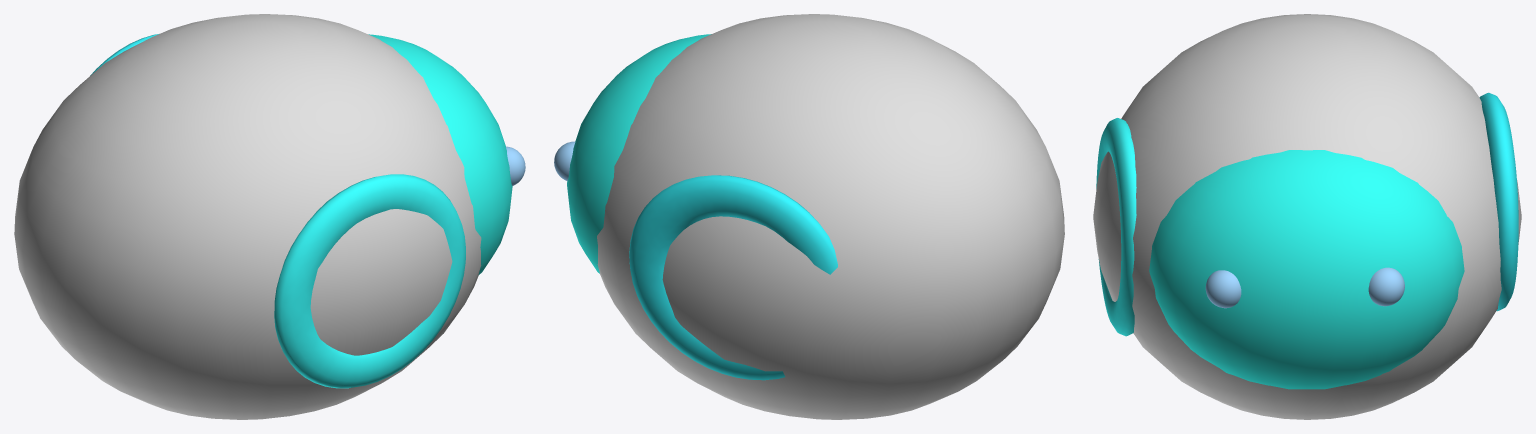
The model's file is guest2.dae.
3 views of the same model, side by side, from view 1: azimuth 30°, elevation 25°; view 2: azimuth 150°, elevation 25°; view 3: azimuth 270°, elevation 25° (orthographic). The views are drawn at different scales.
Parts seen in each view (by area): view 1: Sphere, Torus, Sphere_001, Sphere_002; view 2: Sphere, Torus_001, Sphere_001, Sphere_003; view 3: Sphere, Sphere_001, Torus, Torus_001, Sphere_003, Sphere_002.
Part boxes in pixels (box(x1,y1,x2,y2)): Sphere: box(14, 14, 481, 419); Torus: box(274, 174, 465, 388); Sphere_001: box(368, 34, 512, 275); Sphere_002: box(506, 146, 525, 185); Sphere: box(597, 14, 1064, 419); Torus_001: box(629, 175, 837, 380); Sphere_001: box(567, 34, 711, 273); Sphere_003: box(554, 141, 575, 180); Sphere: box(1093, 14, 1521, 419); Sphere_001: box(1149, 150, 1464, 389); Torus: box(1096, 118, 1136, 336); Torus_001: box(1479, 92, 1518, 311); Sphere_003: box(1368, 267, 1404, 306); Sphere_002: box(1205, 270, 1241, 308).
Bounding box in the file's own units: 0.7513 × 0.64 × 0.58.
